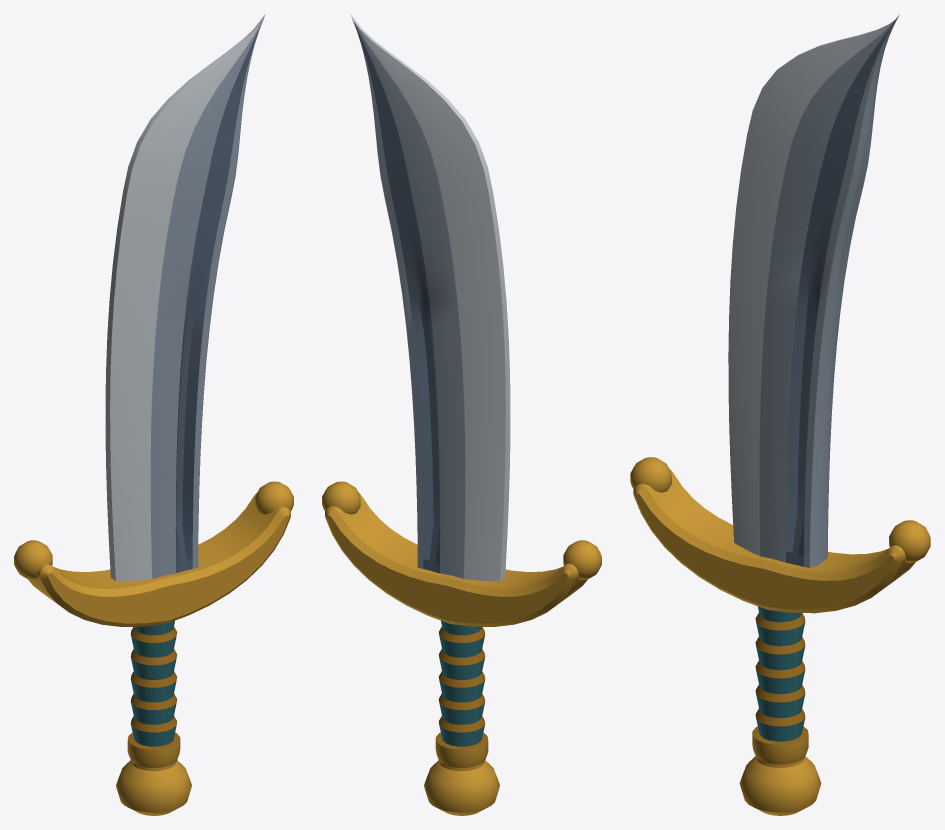
File: Scimitar_11.glb
The picture shows the model from 3 angles, left to right: view 1: azimuth 30°, elevation 25°; view 2: azimuth 150°, elevation 25°; view 3: azimuth 330°, elevation 25°; orthographic projection. The views are drawn at different scales.
Visible parts, largest first — view 1: Scimitar_11; view 2: Scimitar_11; view 3: Scimitar_11.
Part boxes in pixels (box(x1,y1,x2,y2)): Scimitar_11: box(14, 14, 293, 815); Scimitar_11: box(322, 14, 601, 815); Scimitar_11: box(630, 14, 930, 815).
Size of the model in its own units: 2.39 by 6.37 by 0.574.
